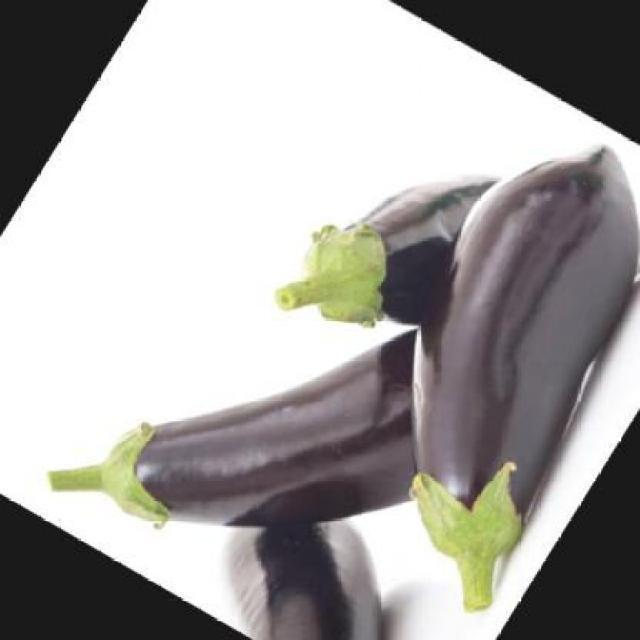eggplant: (36, 206, 498, 640), (283, 103, 639, 620), (268, 112, 507, 370), (186, 468, 457, 640)
